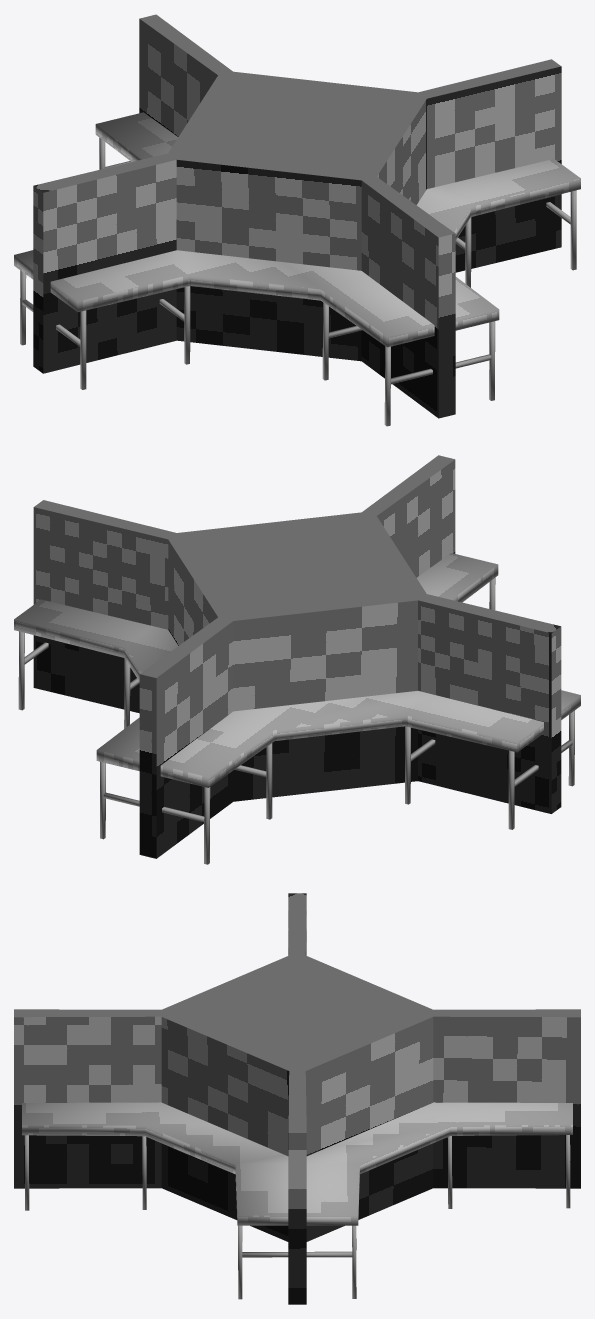
Rendered from Cubicle_1.fbx.
3 renders of one model, top to bottom at view 1: azimuth 30°, elevation 25°; view 2: azimuth 150°, elevation 25°; view 3: azimuth 270°, elevation 25°, orthographic. The views are drawn at different scales.
Visible parts, largest first — view 1: Cubical_Angled:Cubical_Angled, Cubical_Tabel:Cubical_Tabel, Cubical_Legs:Cubical_Legs; view 2: Cubical_Angled:Cubical_Angled, Cubical_Tabel:Cubical_Tabel, Cubical_Legs:Cubical_Legs; view 3: Cubical_Angled:Cubical_Angled, Cubical_Tabel:Cubical_Tabel, Cubical_Legs:Cubical_Legs.
Boxes of the visible parts, left/top/right/bottom form: Cubical_Angled:Cubical_Angled: left=33, top=14, right=561, bottom=418; Cubical_Tabel:Cubical_Tabel: left=14, top=112, right=580, bottom=347; Cubical_Legs:Cubical_Legs: left=20, top=138, right=576, bottom=426; Cubical_Angled:Cubical_Angled: left=33, top=455, right=561, bottom=858; Cubical_Tabel:Cubical_Tabel: left=14, top=553, right=580, bottom=787; Cubical_Legs:Cubical_Legs: left=18, top=577, right=574, bottom=864; Cubical_Angled:Cubical_Angled: left=14, top=893, right=580, bottom=1304; Cubical_Tabel:Cubical_Tabel: left=22, top=1102, right=572, bottom=1225; Cubical_Legs:Cubical_Legs: left=24, top=1135, right=570, bottom=1299.
Bounding box in the file's own units: 5.4 × 1.81 × 5.4.
Materials: 3 (2 with a texture image).
